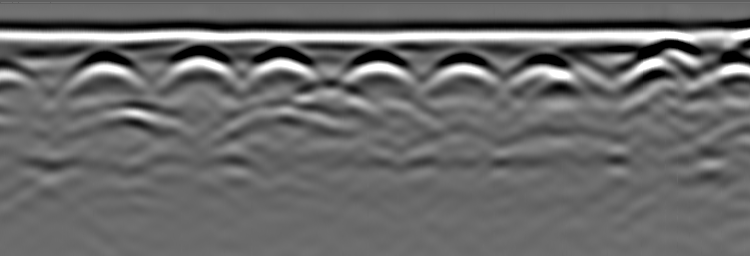pipe: (695, 33, 749, 58)
steel: (70, 49, 145, 88), (167, 49, 229, 87), (347, 51, 410, 87), (429, 50, 497, 83), (519, 52, 579, 87), (622, 55, 680, 88), (254, 48, 309, 81)
